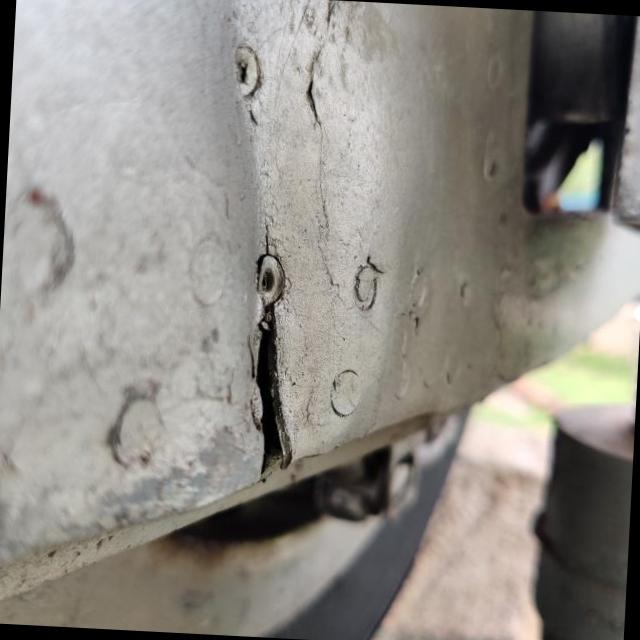Crack: (250, 292, 295, 479)
